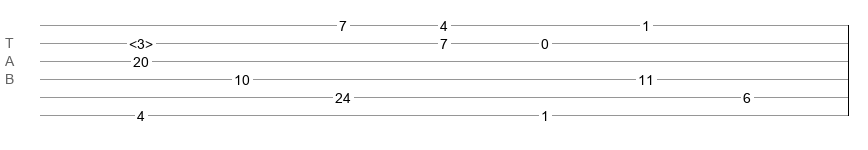0: (541, 36, 549, 46)
1: (541, 108, 549, 118), (642, 18, 650, 28)
10: (234, 72, 250, 82)
11: (638, 72, 654, 82)
20: (133, 54, 149, 64)
24: (335, 90, 351, 100)
4: (137, 108, 145, 118), (440, 18, 448, 28)
6: (743, 90, 751, 100)
7: (339, 18, 347, 28), (440, 36, 448, 46)
harmonic: (129, 36, 153, 46)
